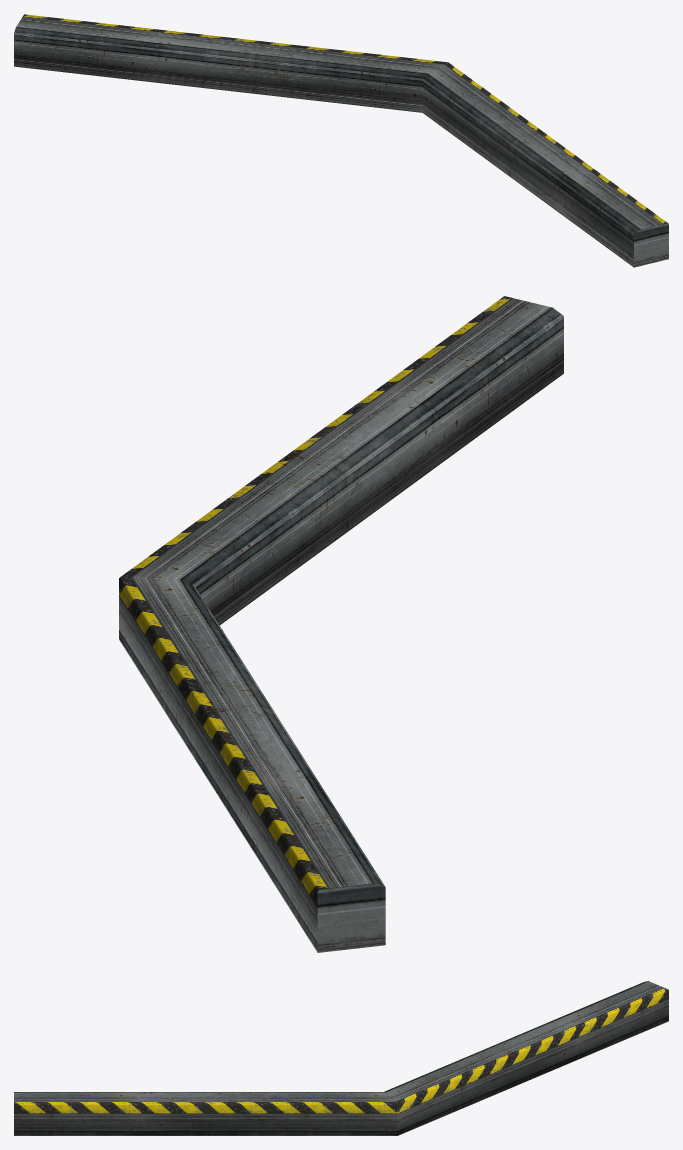
File: Edges_15.fbx
3 views of the same model, one above another, from view 1: azimuth 30°, elevation 25°; view 2: azimuth 150°, elevation 25°; view 3: azimuth 270°, elevation 25° (orthographic). The views are drawn at different scales.
Parts seen in each view (by area): view 1: Edges_15; view 2: Edges_15; view 3: Edges_15.
Part boxes in pixels (box(x1,y1,x2,y2)): Edges_15: box(14, 14, 668, 267); Edges_15: box(119, 296, 563, 952); Edges_15: box(14, 981, 668, 1135).
Bounding box in the file's own units: 232 × 27.46 × 514.
1 material, 1 textured.
